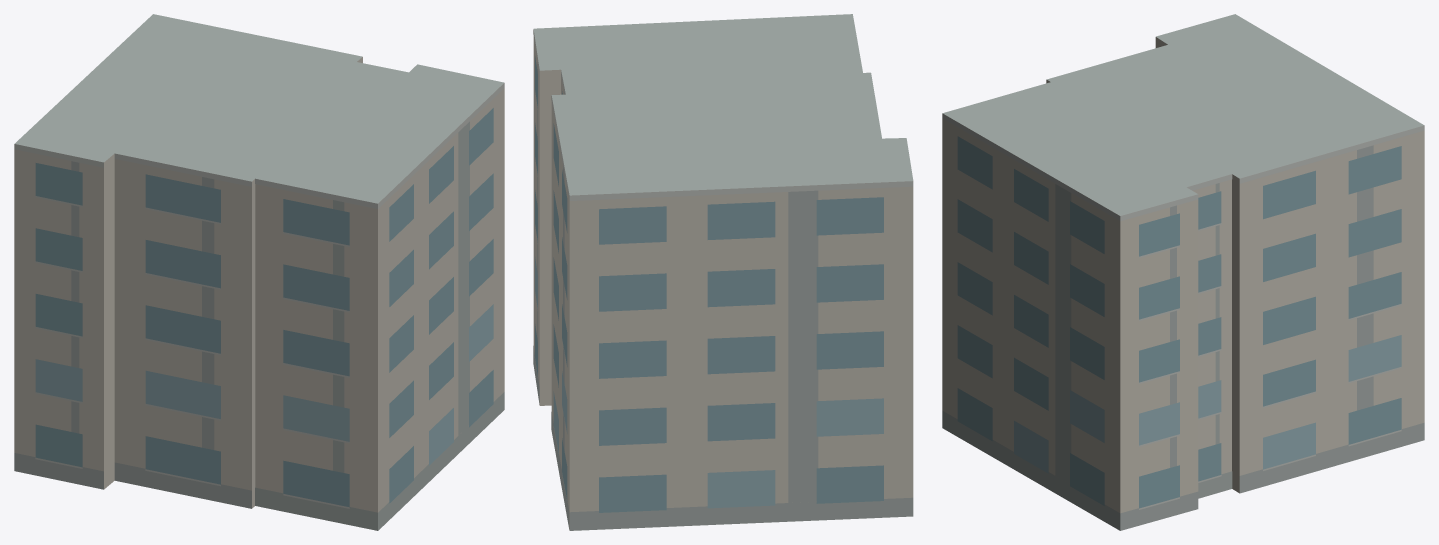
File: survey-upis-32481968.glb
The picture shows the model from 3 angles, left to right: view 1: azimuth 30°, elevation 25°; view 2: azimuth 150°, elevation 25°; view 3: azimuth 270°, elevation 25°; orthographic projection. The views are drawn at different scales.
Parts seen in each view (by area): view 1: survey-upis-32481968.tmp; view 2: survey-upis-32481968.tmp; view 3: survey-upis-32481968.tmp.
Part boxes in pixels (left/top/right/bottom): survey-upis-32481968.tmp: left=14, top=14, right=504, bottom=530; survey-upis-32481968.tmp: left=533, top=14, right=913, bottom=530; survey-upis-32481968.tmp: left=942, top=14, right=1424, bottom=530.
Size of the model in its own units: 20.25 by 14.7 by 20.42.
